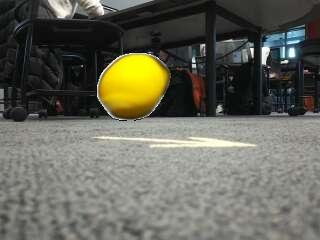lemon: (99, 55, 168, 119)
